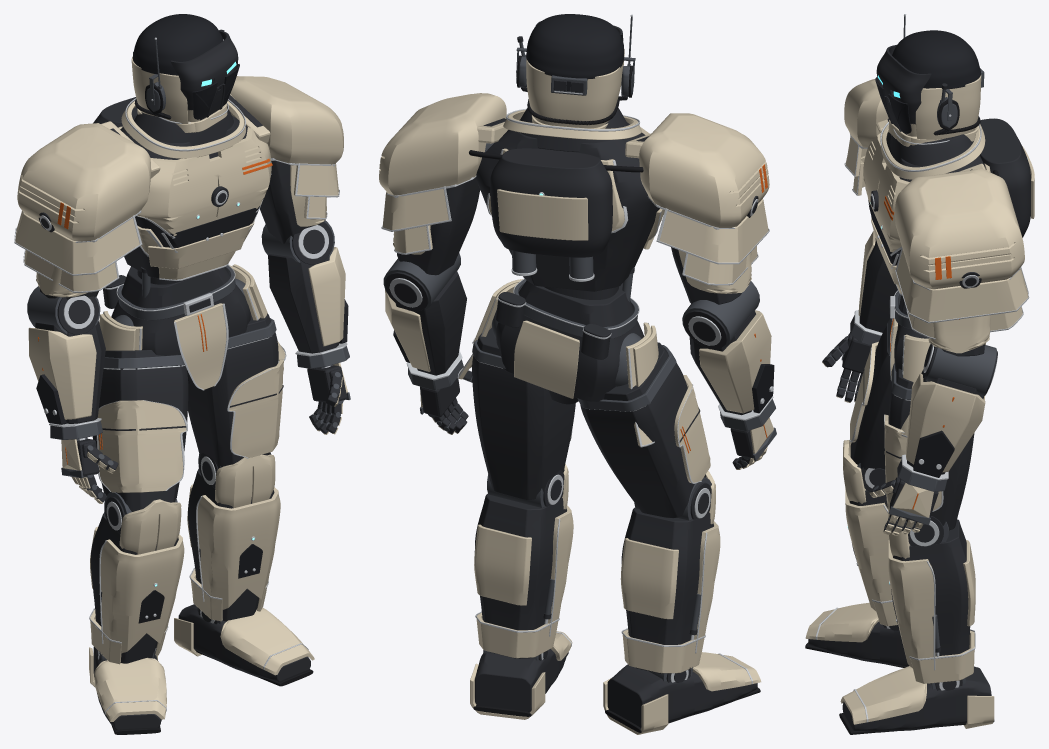
File: waechter.glb
The picture shows the model from 3 angles, left to right: view 1: azimuth 30°, elevation 25°; view 2: azimuth 150°, elevation 25°; view 3: azimuth 270°, elevation 25°; orthographic projection. The views are drawn at different scales.
Parts seen in each view (by area): view 1: pauldron_r, chest, thigh_R_thigh_shell, shin_L_shin_shell, pauldron_l, shin_R_shin_shell, thigh_L_thigh_core, pelvis_core, thigh_R_thigh_core, arm_R_fore_shell, pauldron_r_flare, thigh_L_thigh_shell (+45 smaller); view 2: pauldron_r, thigh_L_thigh_core, thigh_R_thigh_core, pauldron_l, backpack, torso_core, pelvis_core, shin_L_shin_core, shin_R_shin_core, cap, foot_R_foot_core, arm_R_fore_shell (+37 smaller); view 3: pauldron_l, shin_L_shin_core, arm_L_fore_shell, pauldron_l_flare, shin_L_shin_shell, cap, shin_R_shin_shell, foot_L_foot_core, backpack, foot_L_toe_cap, thigh_R_thigh_core, chest (+31 smaller).
Boxes of the visible parts, x1,y1,x2,y2 form: pauldron_r: (17,123,151,241); chest: (137,127,271,236); thigh_R_thigh_shell: (97,400,186,492); shin_L_shin_shell: (197,487,280,609); pauldron_l: (230,76,343,164); shin_R_shin_shell: (100,534,184,653); thigh_L_thigh_core: (188,313,278,468); pelvis_core: (111,266,250,369); thigh_R_thigh_core: (92,350,188,511); arm_R_fore_shell: (28,327,96,419); pauldron_r_flare: (15,211,139,274); thigh_L_thigh_shell: (227,359,283,457); pauldron_r: (639,113,769,227); thigh_L_thigh_core: (472,328,575,499); thigh_R_thigh_core: (580,342,706,518); pauldron_l: (379,93,506,195); backpack: (490,148,612,257); torso_core: (475,120,659,291); pelvis_core: (496,280,644,401); shin_L_shin_core: (474,493,566,658); shin_R_shin_core: (621,507,713,673); cap: (526,14,624,79); foot_R_foot_core: (607,664,757,727); arm_R_fore_shell: (699,310,771,413); pauldron_l: (895,169,1024,289); shin_L_shin_core: (893,519,970,655); arm_L_fore_shell: (906,373,985,472); pauldron_l_flare: (896,249,1028,321); shin_L_shin_shell: (888,539,935,668); cap: (892,30,980,89); shin_R_shin_shell: (845,488,892,610); foot_L_foot_core: (842,666,991,732); backpack: (980,118,1030,237); foot_L_toe_cap: (840,666,926,724); thigh_R_thigh_core: (850,326,890,469); chest: (863,133,909,252).
Bounding box in the file's own units: 0.8658 × 1.67 × 0.5249.
